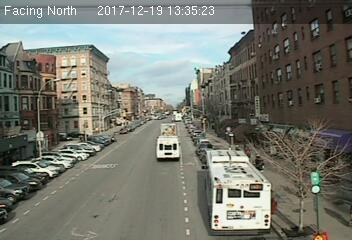bus: (200, 149, 272, 236)
truck: (156, 136, 181, 162), (160, 122, 176, 135)
